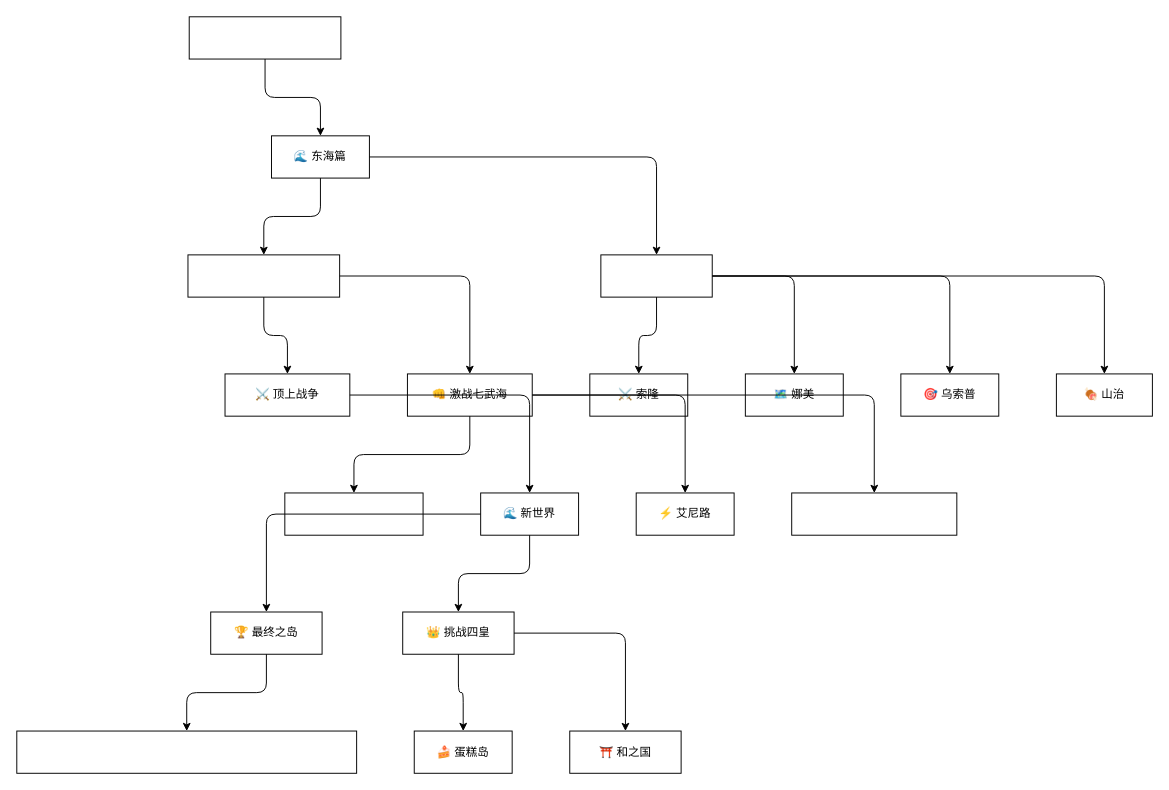
This 1169x790 diagram has some shape labels left out. The box of each missing label's shape, as (x1, y1, x2, y2) in pixels:
🌊 伟大航路前半段: (187, 254, 340, 297)
🏛️ CP9/司法岛: (791, 492, 957, 535)
🏜️ 克洛克达尔: (284, 492, 423, 535)
🏴‍☠️ 路飞出航: (188, 16, 341, 59)
👑 海贼王! ONE PIECE是真的!: (16, 730, 357, 773)
👥 召集伙伴: (600, 254, 712, 297)
